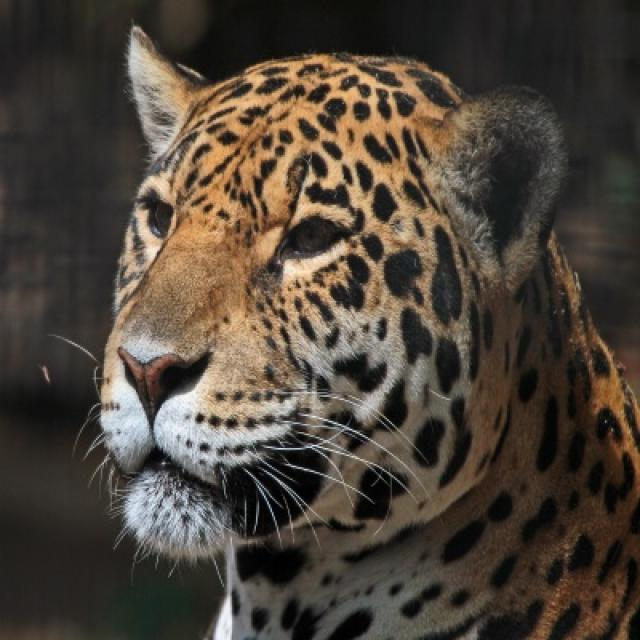Jaguar: (91, 24, 638, 638)
